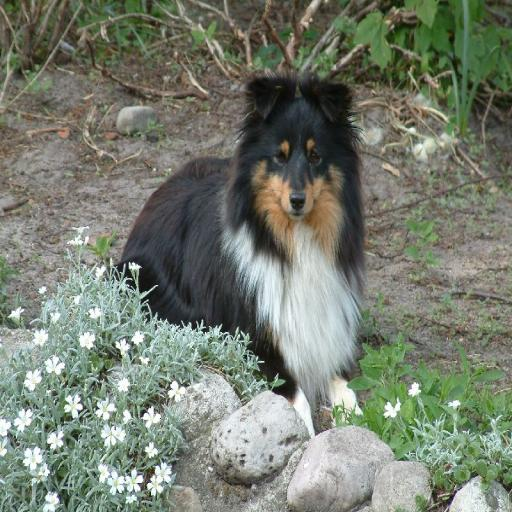dog_face: (248, 86, 358, 241)
